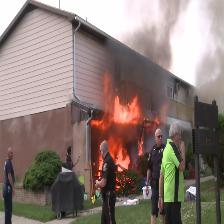fire: (96, 69, 153, 191)
smoke: (103, 0, 224, 95)
